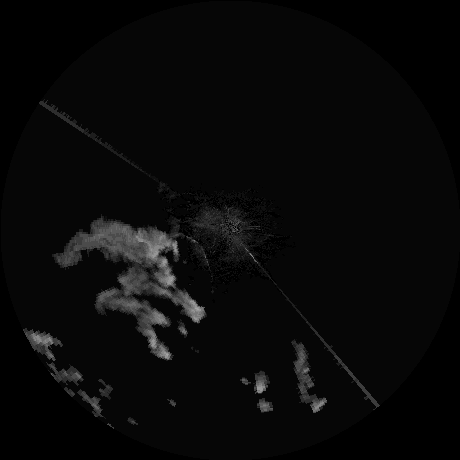frontgust: (176, 235, 211, 265)
